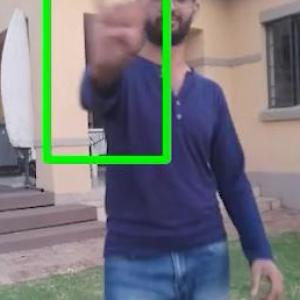takeoff-hand: (84, 0, 160, 94)
